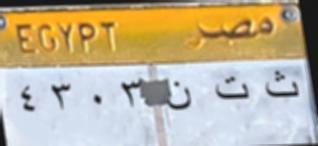0: (88, 90, 108, 110)
3: (45, 76, 75, 112), (118, 74, 145, 113)
4: (20, 77, 38, 117)
noon: (165, 75, 197, 113)
taa: (210, 73, 251, 103)
thaa: (260, 66, 303, 107)
